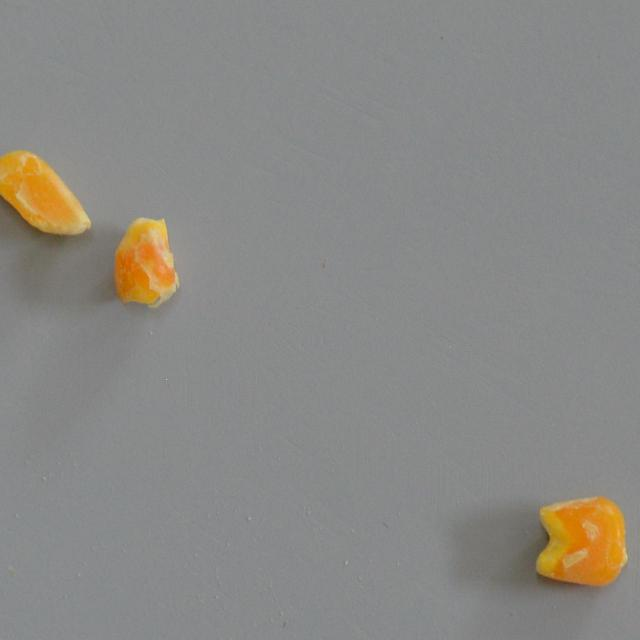dañado: (111, 211, 180, 308)
pelicula: (530, 484, 634, 594), (0, 145, 94, 238)
